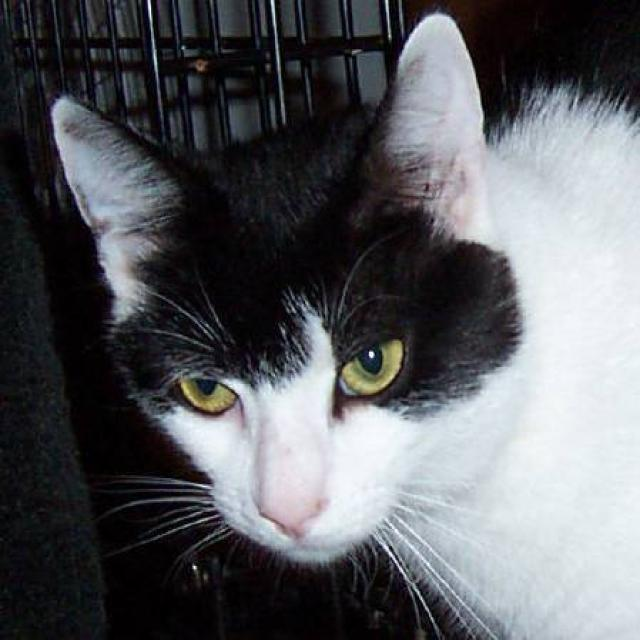cat: (47, 9, 639, 638)
